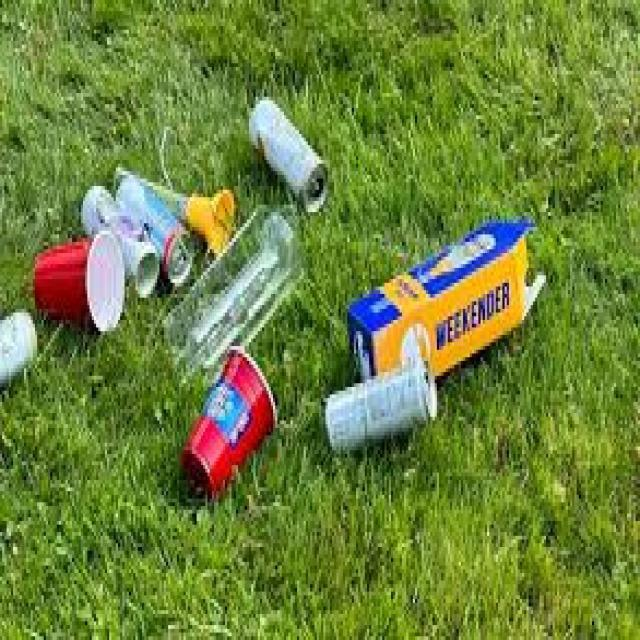clothes: (312, 364, 468, 458), (245, 80, 338, 218), (75, 169, 154, 318), (100, 165, 194, 278), (0, 305, 52, 387)
foam box: (158, 199, 312, 393)
leaf: (170, 352, 280, 520), (20, 214, 124, 356)
trash: (340, 212, 558, 428)
